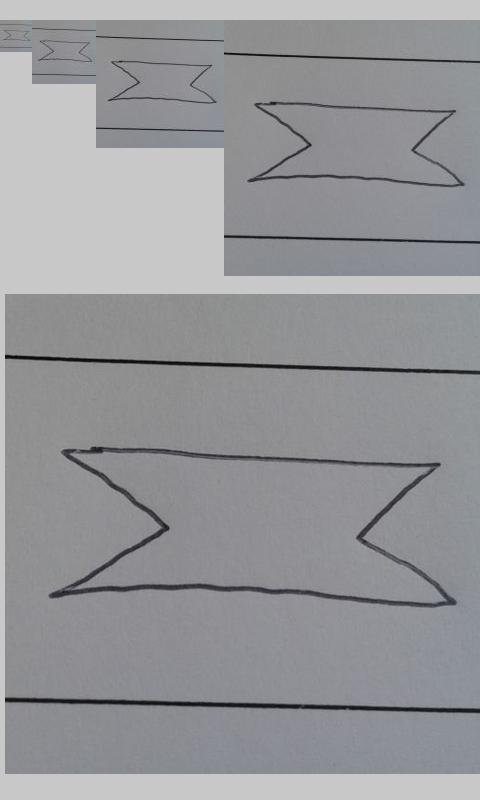edit_text: (50, 444, 456, 613), (245, 97, 463, 191), (108, 60, 216, 105), (37, 39, 92, 63), (3, 29, 29, 42)
